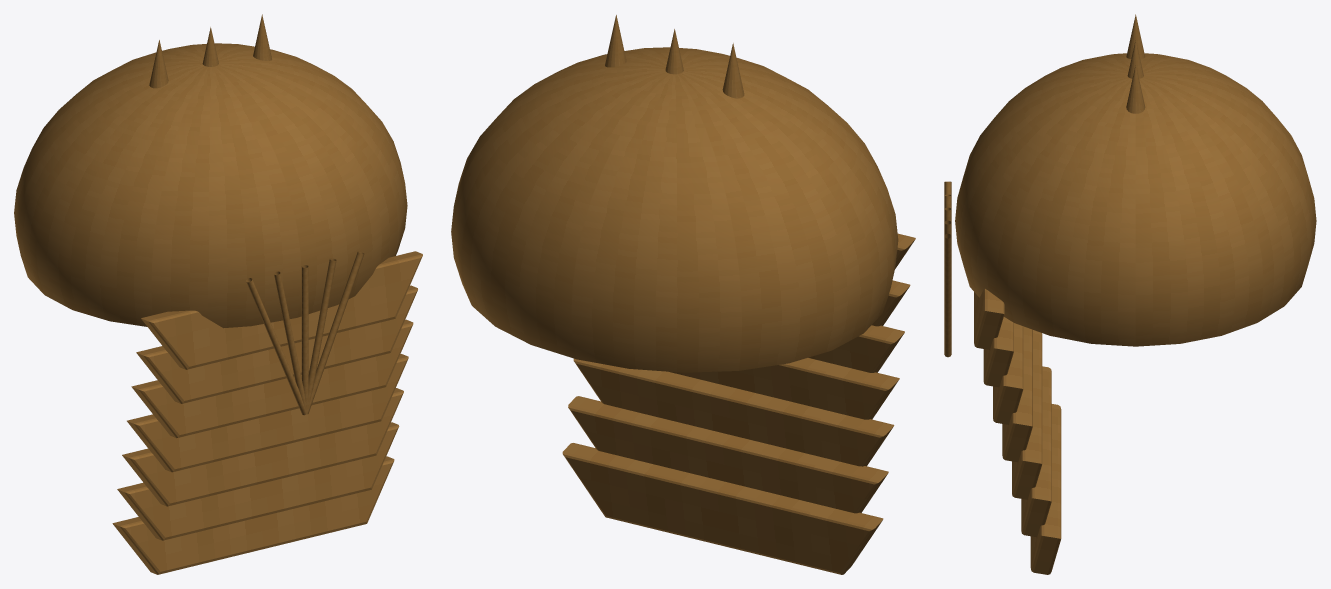
3 renders of one model, left to right at view 1: azimuth 30°, elevation 25°; view 2: azimuth 150°, elevation 25°; view 3: azimuth 270°, elevation 25°, orthographic. The views are drawn at different scales.
Visible parts, largest first — view 1: brass.0, brass.1, brass.7, brass.5, brass.6, brass.4, brass.3, brass.2, brass.15, brass.14, brass.11, brass.13 (+2 smaller); view 2: brass.0, brass.7, brass.6, brass.5, brass.4, brass.3, brass.8, brass.10, brass.2; view 3: brass.0, brass.7, brass.6, brass.5, brass.4, brass.3, brass.1, brass.2, brass.15, brass.10.
Boxes of the visible parts, bbox=[...] form: brass.0: bbox=[14, 43, 407, 328]; brass.1: bbox=[141, 251, 422, 369]; brass.7: bbox=[112, 456, 394, 574]; brass.5: bbox=[122, 388, 403, 506]; brass.6: bbox=[117, 422, 399, 540]; brass.4: bbox=[127, 354, 408, 472]; brass.3: bbox=[131, 319, 413, 438]; brass.2: bbox=[136, 285, 417, 403]; brass.15: bbox=[307, 251, 364, 414]; brass.14: bbox=[307, 258, 336, 412]; brass.11: bbox=[246, 278, 306, 415]; brass.13: bbox=[301, 265, 308, 412]; brass.0: bbox=[451, 47, 898, 372]; brass.7: bbox=[562, 443, 883, 574]; brass.6: bbox=[568, 396, 888, 513]; brass.5: bbox=[573, 358, 894, 466]; brass.4: bbox=[669, 358, 899, 419]; brass.3: bbox=[808, 325, 904, 372]; brass.8: bbox=[722, 43, 744, 98]; brass.10: bbox=[605, 15, 626, 67]; brass.2: bbox=[872, 280, 910, 326]; brass.0: bbox=[955, 53, 1316, 346]; brass.7: bbox=[1030, 404, 1061, 574]; brass.6: bbox=[1021, 366, 1051, 537]; brass.5: bbox=[1012, 330, 1042, 499]; brass.4: bbox=[1002, 326, 1032, 462]; brass.3: bbox=[993, 323, 1023, 424]; brass.1: bbox=[974, 288, 1004, 349]; brass.2: bbox=[983, 317, 1013, 387]; brass.15: bbox=[944, 233, 951, 357]; brass.10: bbox=[1126, 64, 1145, 113].
Bounding box in the file's own units: 0.34 × 0.4533 × 0.315.
Materials: 1 (1 with a texture image).
